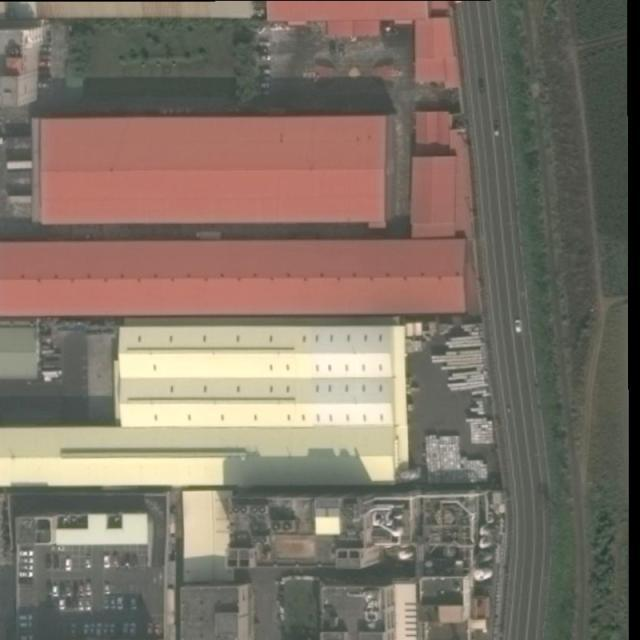vehicle: (84, 581, 93, 597), (102, 551, 110, 568), (84, 596, 93, 611), (58, 597, 66, 613), (514, 320, 523, 334), (102, 595, 110, 610), (146, 622, 154, 637), (64, 581, 71, 597), (116, 595, 124, 609), (129, 593, 136, 609), (45, 553, 51, 571), (154, 623, 161, 638), (21, 555, 34, 563), (113, 552, 119, 569), (84, 554, 91, 568), (103, 582, 110, 596), (70, 622, 77, 636), (95, 622, 102, 636), (122, 622, 129, 636), (18, 550, 34, 556), (65, 557, 72, 570), (77, 598, 84, 611), (19, 564, 34, 570), (18, 571, 33, 577), (110, 595, 116, 610), (53, 582, 59, 596), (78, 582, 84, 596), (83, 622, 89, 636), (90, 622, 96, 636), (103, 623, 110, 635), (130, 622, 136, 636), (494, 120, 499, 136), (20, 634, 33, 640), (18, 614, 33, 619), (110, 623, 116, 635), (19, 622, 32, 627)
